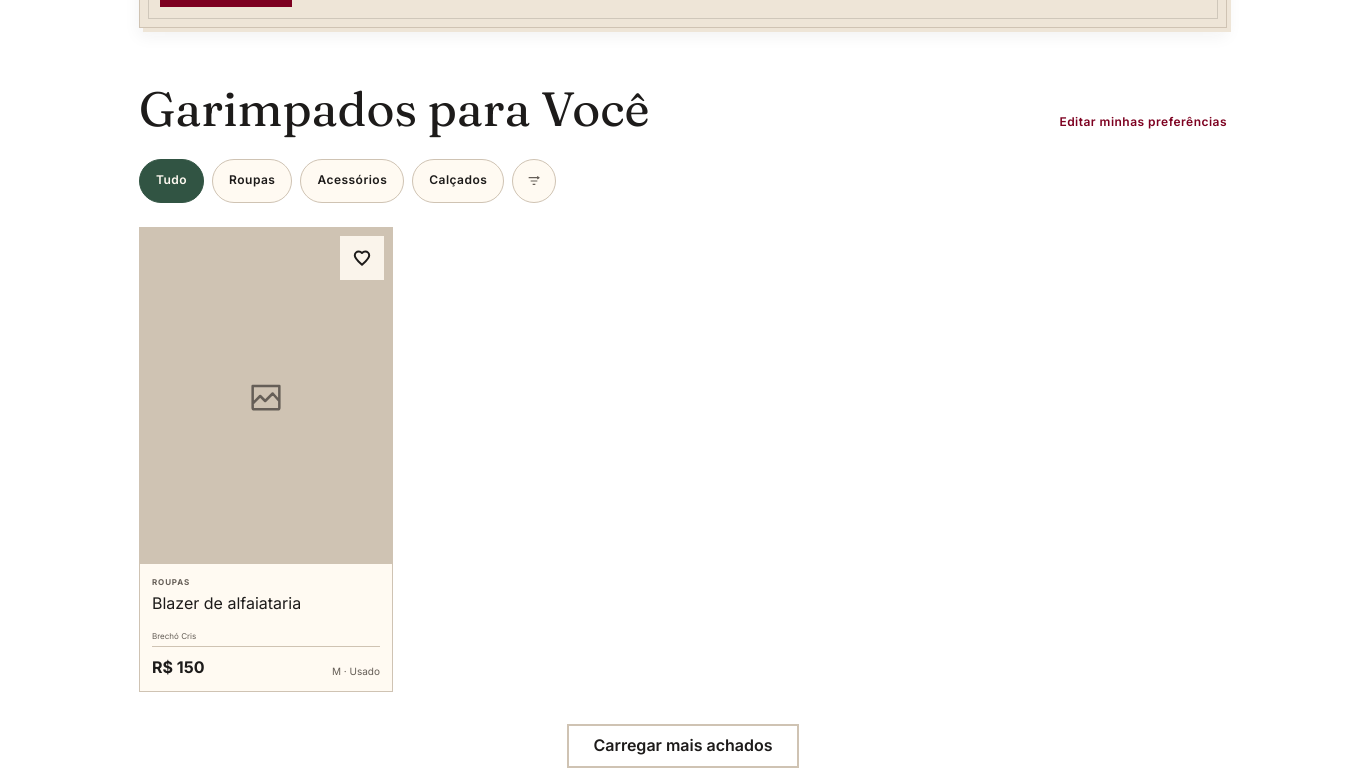
<Home /> › "Garimpados para Você" vem das recomendações (FE-US029-1, #325) › "Carregar mais" no modo recomendação pede getRecommendationsWithDetails(2) e concatena
(page scrolled)
Click the button "Carregar mais achados" at (683, 746), box [567,724,798,767]
(page scrolled)
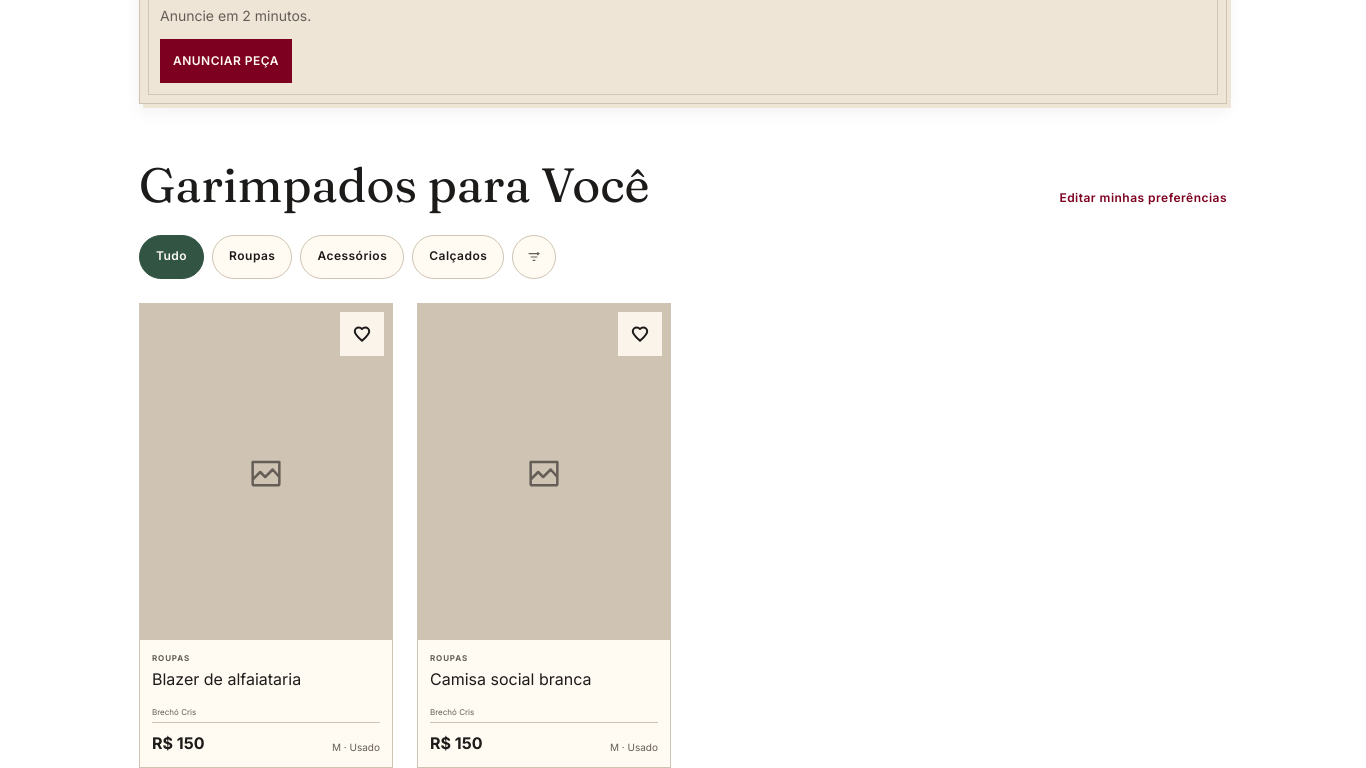
Expected: the link "Blazer de alfaiataria" is shown, [152,668,301,688]
Expected: the link "Camisa social branca" is shown, [430,668,592,688]
Expected: the button "Carregar mais achados" is gone
